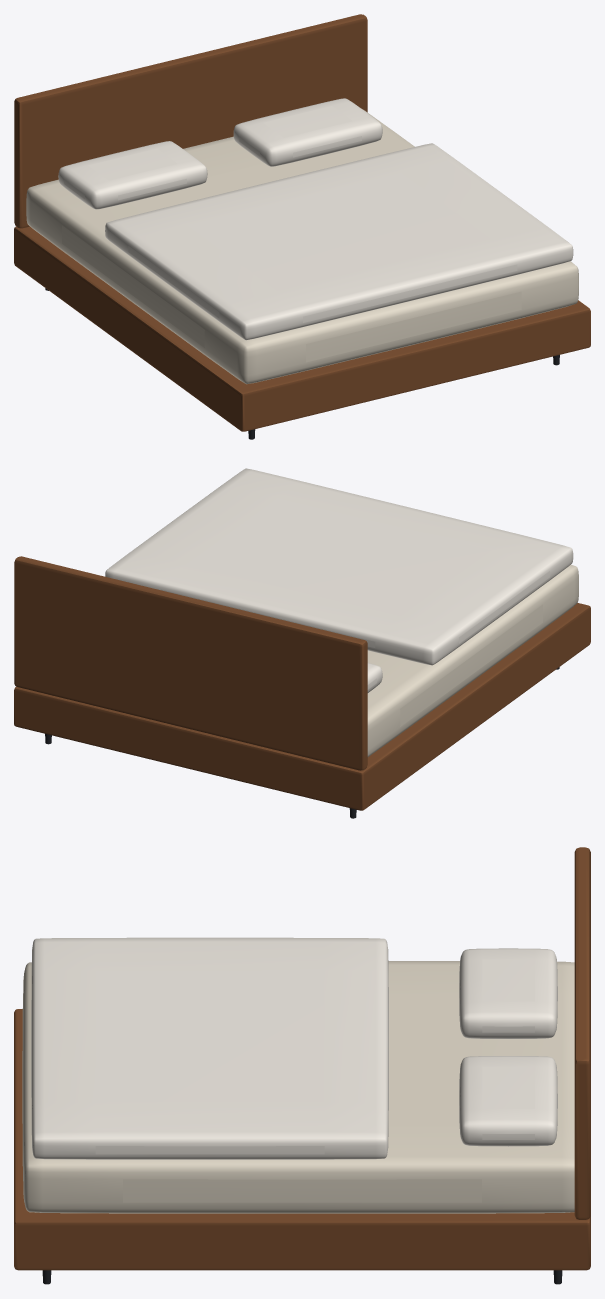
Rendered from bed-180.glb.
3 views of the same model, one above another, from view 1: azimuth 30°, elevation 25°; view 2: azimuth 150°, elevation 25°; view 3: azimuth 270°, elevation 25° (orthographic). The views are drawn at different scales.
Parts seen in each view (by area): view 1: bed-180; view 2: bed-180; view 3: bed-180.
Boxes of the visible parts, x1,y1,x2,y2 form: bed-180: [14, 14, 590, 439]; bed-180: [14, 468, 590, 818]; bed-180: [14, 847, 590, 1284].
Bounding box in the file's own units: 1.85 × 0.95 × 2.1.
